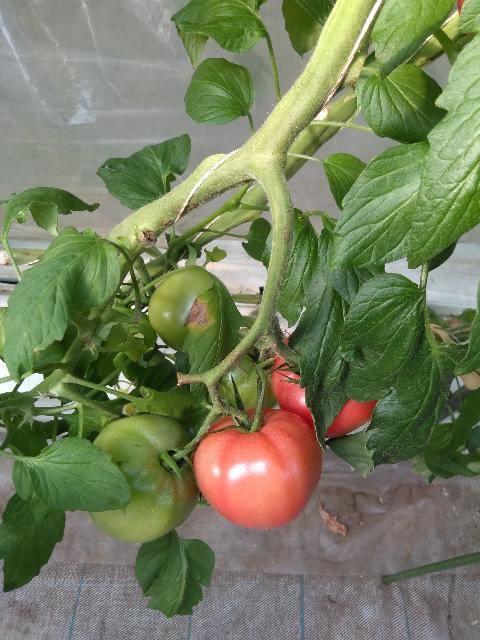b_fully_ripened: (191, 408, 323, 530), (272, 330, 379, 439)
b_green: (84, 414, 200, 543), (148, 266, 231, 353)
